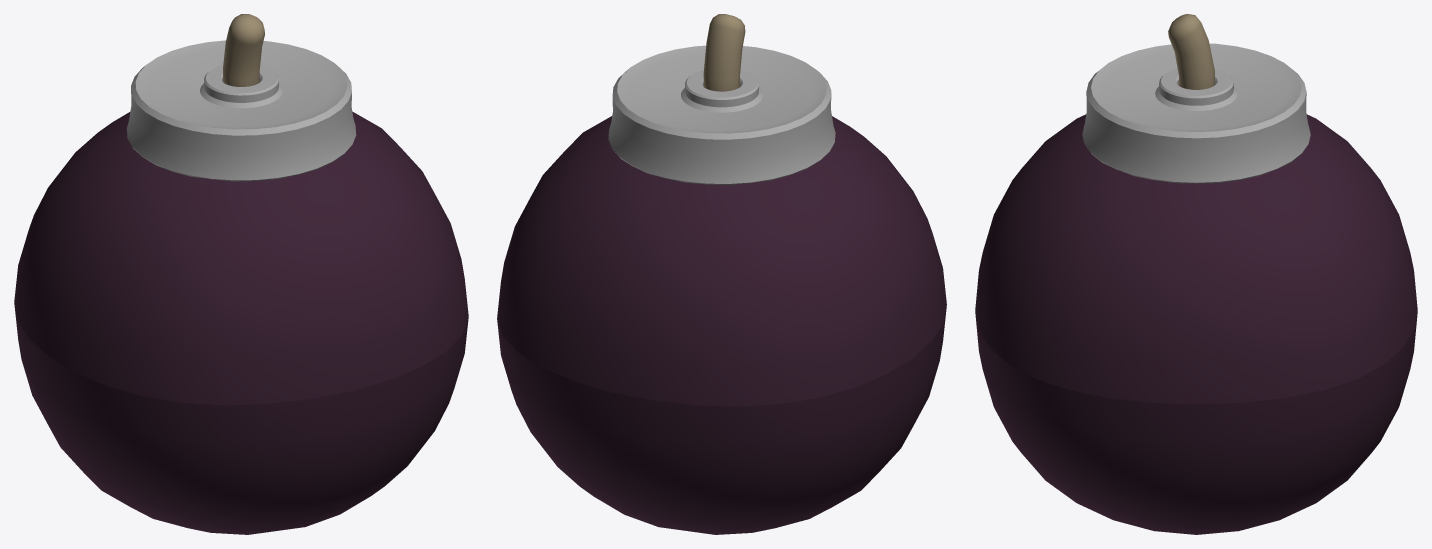
Rendered from Bomb.fbx.
3 renders of one model, left to right at view 1: azimuth 30°, elevation 25°; view 2: azimuth 150°, elevation 25°; view 3: azimuth 270°, elevation 25°, orthographic.
Visible parts, largest first — view 1: Bomb_geo; view 2: Bomb_geo; view 3: Bomb_geo.
Part boxes in pixels (left/top/right/bottom): Bomb_geo: left=14, top=14, right=468, bottom=534; Bomb_geo: left=497, top=14, right=946, bottom=534; Bomb_geo: left=975, top=14, right=1417, bottom=534.
Size of the model in its own units: 193 by 238 by 193.
